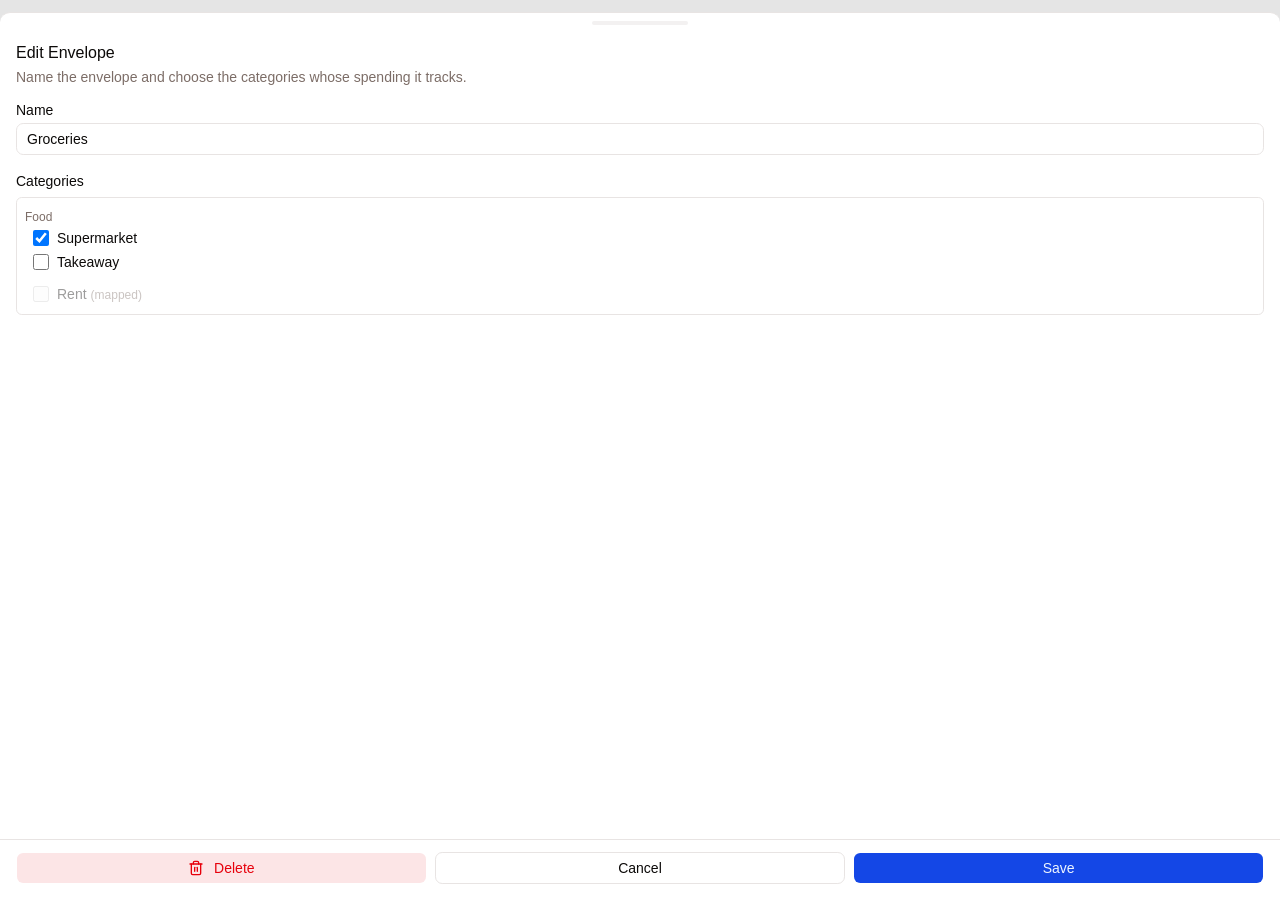
Test: EnvelopeFormDialog › keeps the form and draft with an inline error when saving fails
Replace the text in the field labelled "Name" with "Food shop". click: (640, 139)
box: [16,123,1264,155]
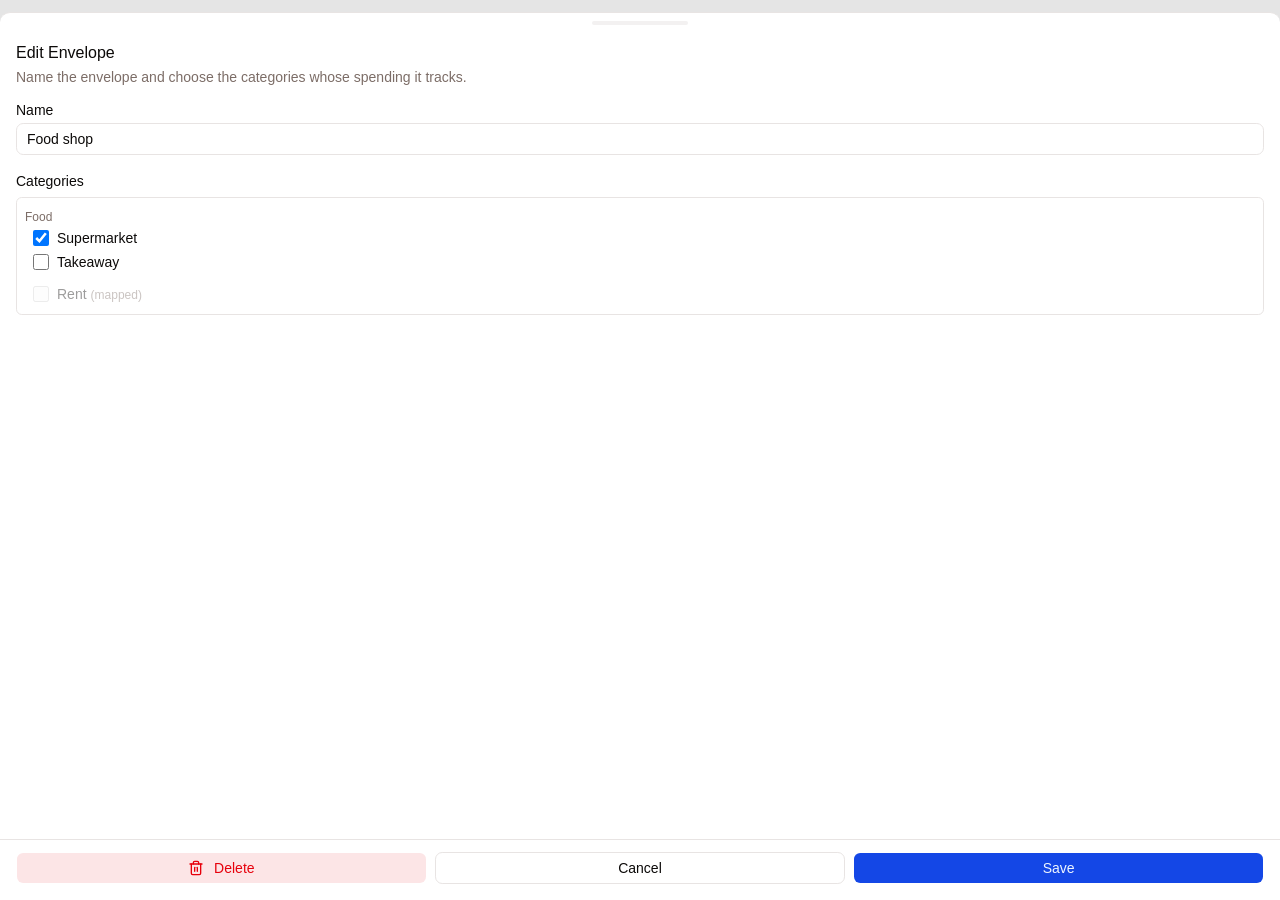
Click the button "Save". click: (1059, 868)
box: [853,852,1264,884]
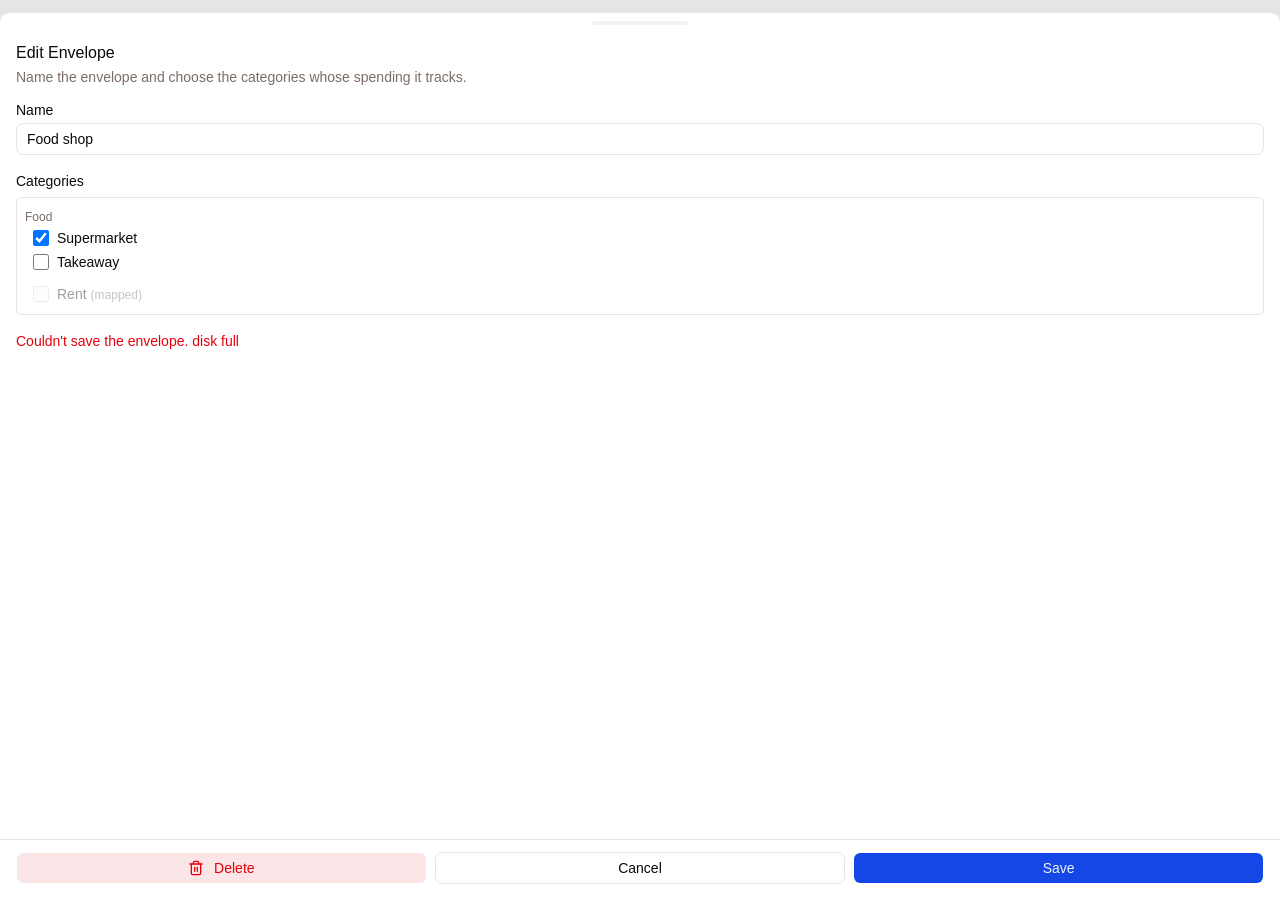
Expected: the message shows "Couldn't save the envelope.", [16,333,239,349]
